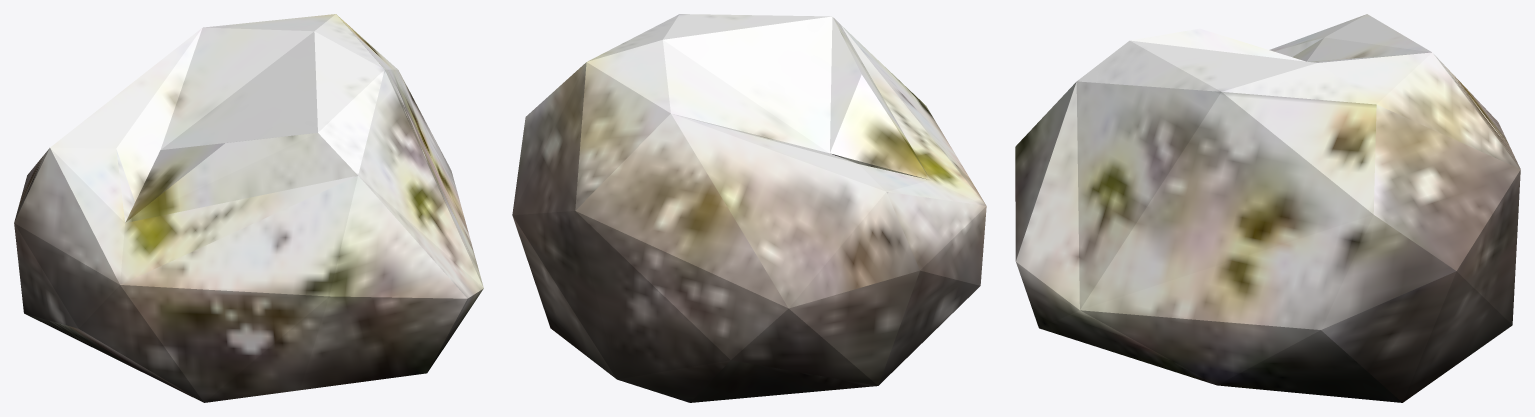
File: ga3_rock_a_lod1.glb
3 views of the same model, side by side, from view 1: azimuth 30°, elevation 25°; view 2: azimuth 150°, elevation 25°; view 3: azimuth 270°, elevation 25° (orthographic). The views are drawn at different scales.
Visible parts, largest first — view 1: ga3_rock_a_lod1; view 2: ga3_rock_a_lod1; view 3: ga3_rock_a_lod1.
Part boxes in pixels (x1,y1,x2,y2): ga3_rock_a_lod1: (14,14,483,402); ga3_rock_a_lod1: (512,14,986,402); ga3_rock_a_lod1: (1015,14,1520,402).
Bounding box in the file's own units: 1.02 × 0.672 × 0.9733.
Materials: 1 (1 with a texture image).
